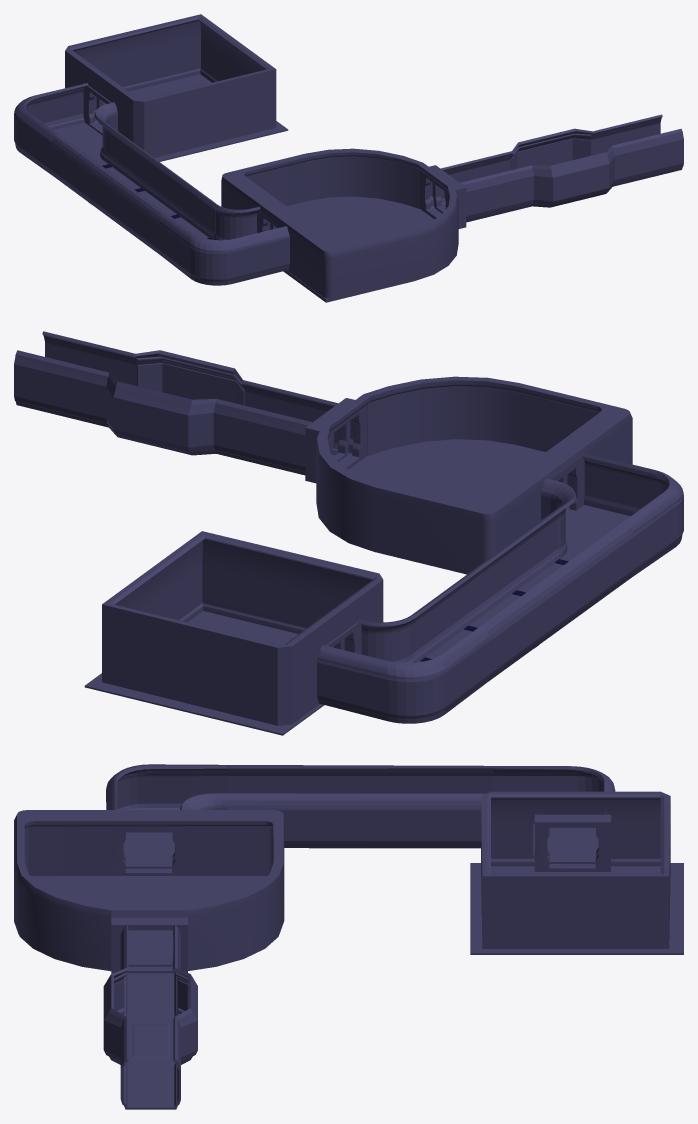
Rendered from Connected-Walls.fbx.
The picture shows the model from 3 angles, top to bottom: view 1: azimuth 30°, elevation 25°; view 2: azimuth 150°, elevation 25°; view 3: azimuth 270°, elevation 25°; orthographic projection. The views are drawn at different scales.
Parts seen in each view (by area): view 1: walls; view 2: walls; view 3: walls.
Part boxes in pixels (x1,y1,x2,y2): walls: (14, 14, 683, 302); walls: (14, 331, 683, 735); walls: (14, 764, 683, 1109).
Bounding box in the file's own units: 4230 × 521 × 4078.
